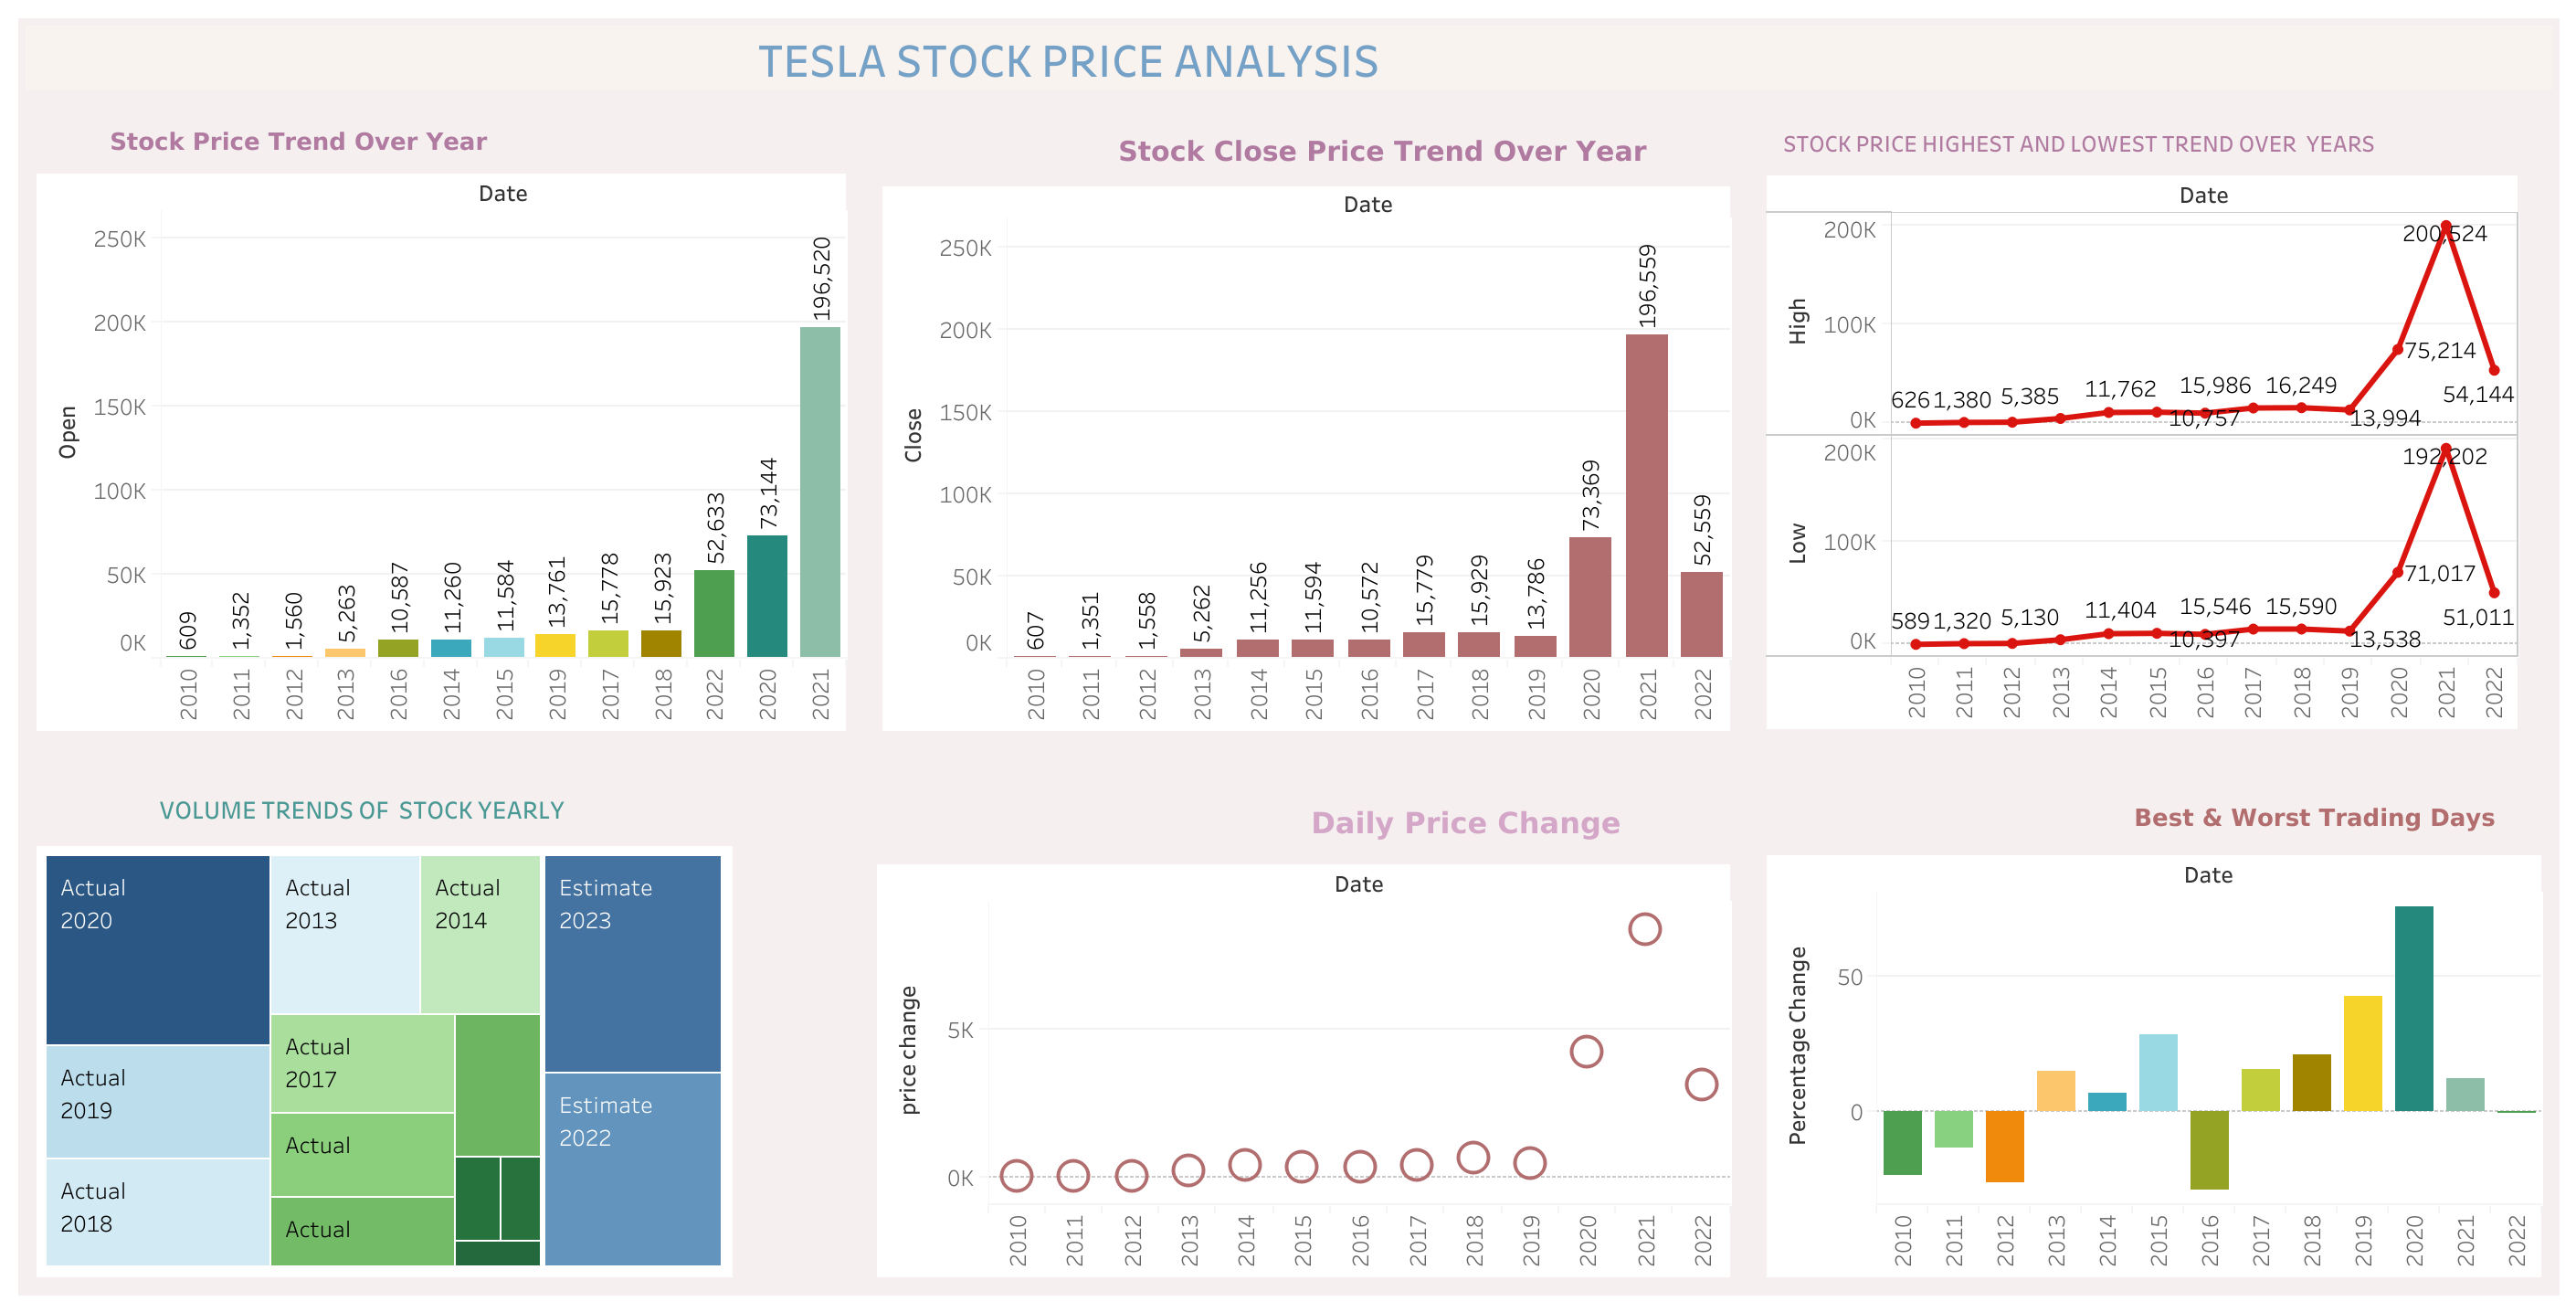

The page's visual inventory and layout, read from the dashboard file:
{"tool":"tableau","page":{"name":"TESLA STOCK PRICE ANALYIS","canvas":[1000,1000],"units":"permille","ordinal":0},"visuals":[{"type":"title","box":[7.9,13,984.2,71.6]},{"type":"worksheet","title":"Sheet 1","mark":"Bar","rows":["Open"],"cols":["Date"],"box":[7.9,84.6,328.1,491]},{"type":"worksheet","title":"Sheet 2","mark":"Bar","rows":["Close"],"cols":["Date"],"box":[336,84.6,328.1,491]},{"type":"worksheet","title":"Sheet 4","mark":"Automatic","rows":["High","Low"],"cols":["Date"],"box":[664,84.6,328.1,491]},{"type":"worksheet","title":"Sheet 3","mark":"Automatic","box":[7.9,575.6,341.2,411.3]},{"type":"worksheet","title":"Sheet 5","mark":"Shape","rows":["Calculation_5551531023752679429"],"cols":["Date"],"box":[349.1,575.6,328.7,411.3]},{"type":"worksheet","title":"Sheet 6","mark":"Bar","rows":["Calculation_5551531023755374598"],"cols":["Date"],"box":[677.8,575.6,314.4,411.3]}]}

Visuals, with their boxes on the dashboard's canvas, which has no fixed pixel size, in thousandths of its width and height (x1, y1, x2, y2). These are canvas units, not pixel positions in the 2576x1312 screenshot, which may show the page scaled, cropped or inside an application window:
title: <bbox>8, 13, 992, 85</bbox>
"Sheet 1" worksheet (Bar marks): <bbox>8, 85, 336, 576</bbox>
"Sheet 2" worksheet (Bar marks): <bbox>336, 85, 664, 576</bbox>
"Sheet 4" worksheet: <bbox>664, 85, 992, 576</bbox>
"Sheet 3" worksheet: <bbox>8, 576, 349, 987</bbox>
"Sheet 5" worksheet (Shape marks): <bbox>349, 576, 678, 987</bbox>
"Sheet 6" worksheet (Bar marks): <bbox>678, 576, 992, 987</bbox>
